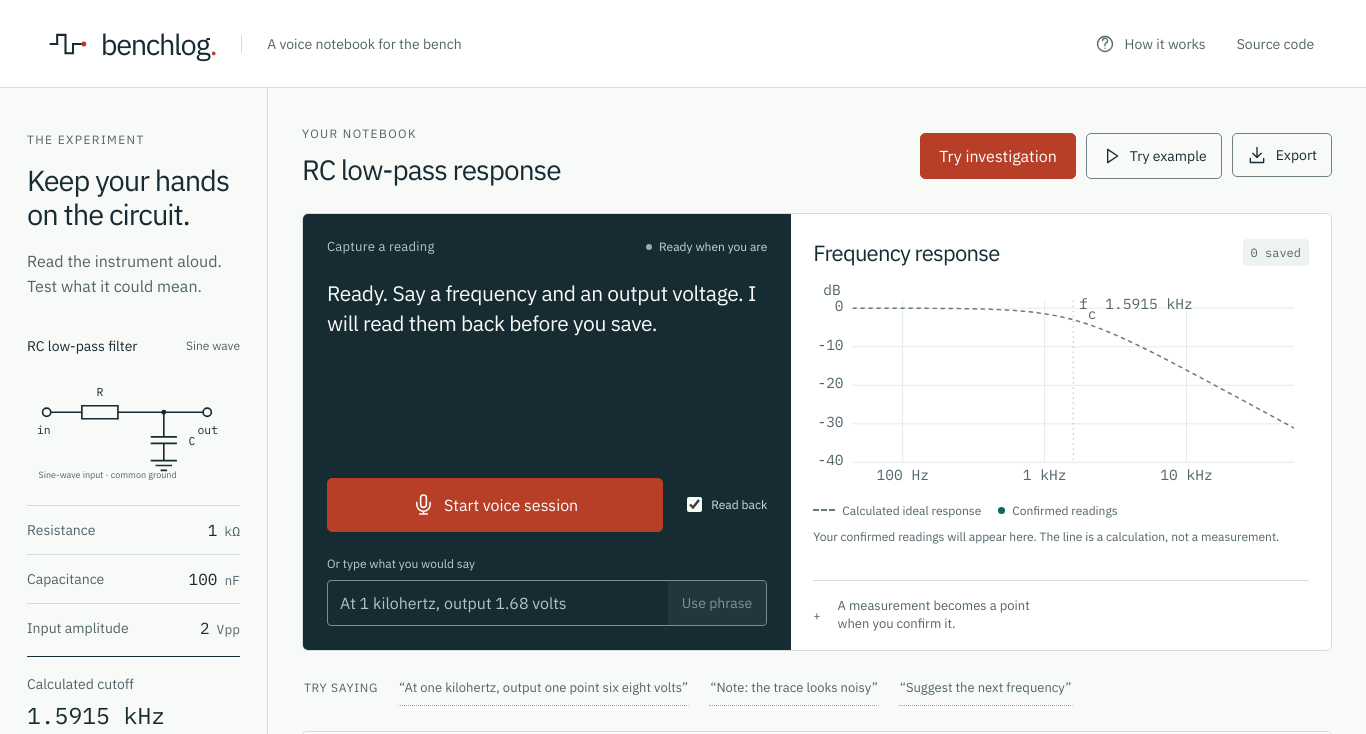
Scenario: real notebook workflows › keeps the synthetic sample operation alive across background fetch and inference
Click the button "How it works". click: (1151, 44)
box: [1092,22,1210,66]
(page scrolled)
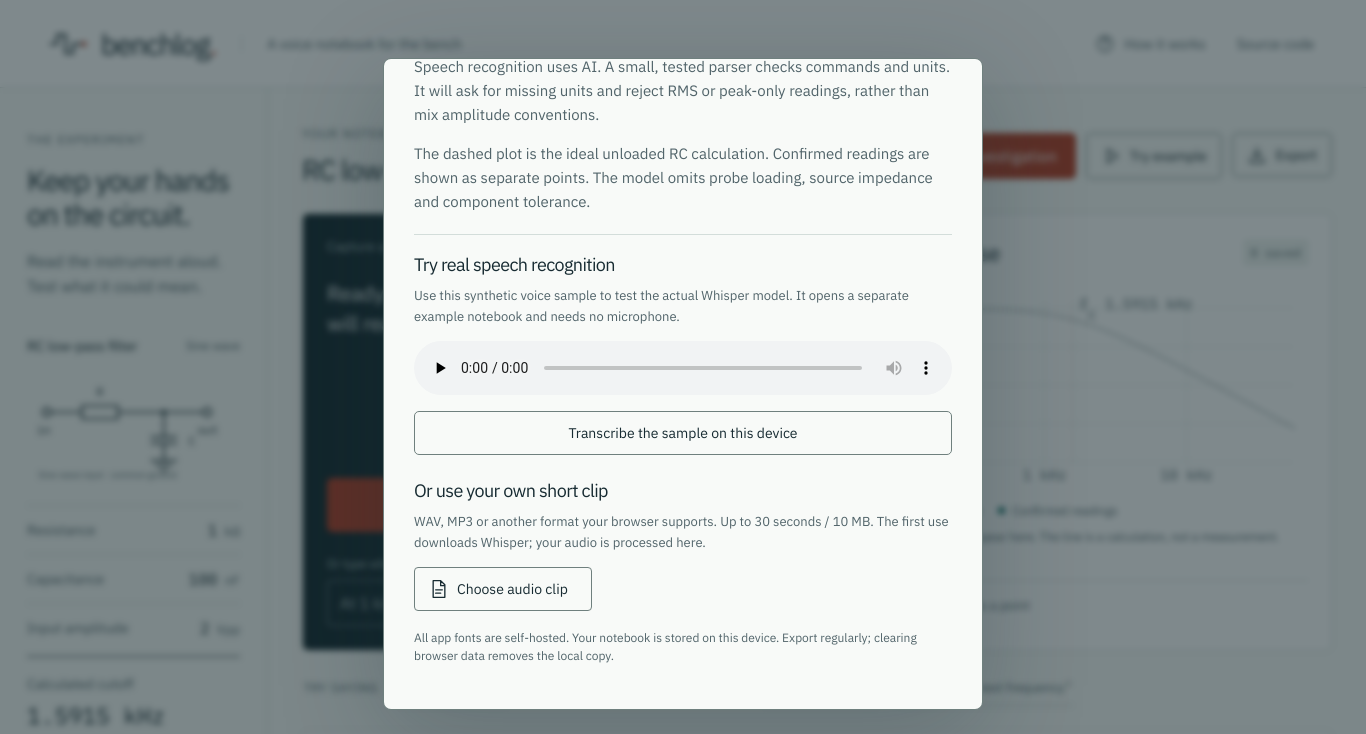
Click the button "Transcribe the sample on this device". click: (683, 433)
box: [414,411,952,455]
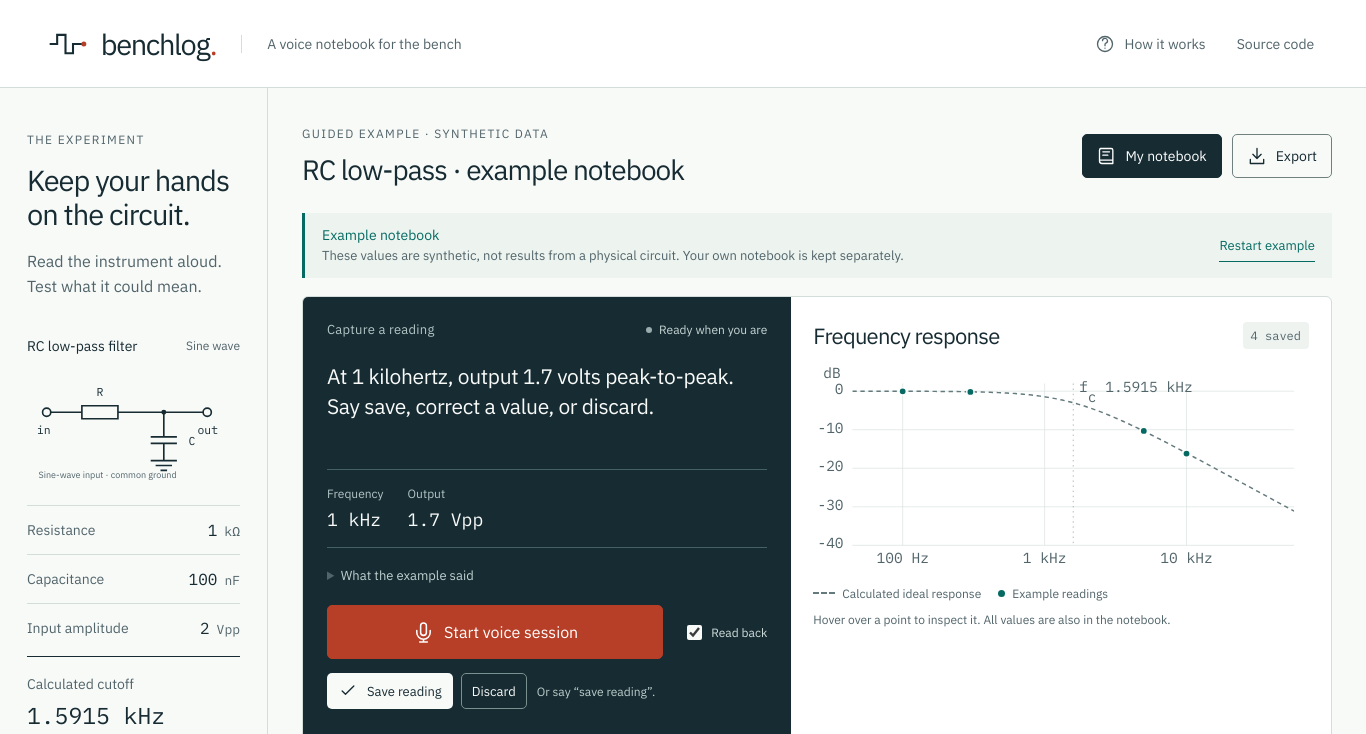
Check: the button named "Cancel transcription" is shown, box [327,605,663,659]
Check: the button "Save reading" is shown, box [327,673,453,709]
Check: the message shows "1.7 volts peak-to-peak", box [327,362,734,420]
